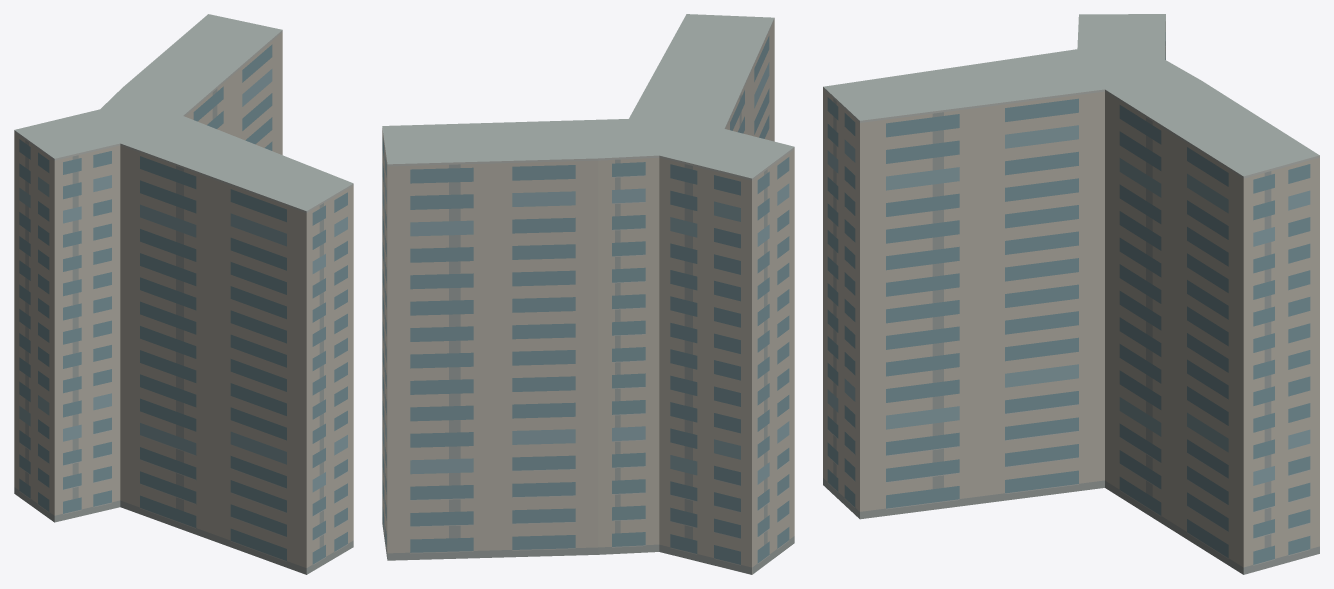
File: residential-e4c3461d-f39c-4807-82dc-150846dc13a1.glb
3 renders of one model, left to right at view 1: azimuth 30°, elevation 25°; view 2: azimuth 150°, elevation 25°; view 3: azimuth 270°, elevation 25°, orthographic. The views are drawn at different scales.
Visible parts, largest first — view 1: residential-e4c3461d-f39c-4807-82dc-150846dc13a1.tmp; view 2: residential-e4c3461d-f39c-4807-82dc-150846dc13a1.tmp; view 3: residential-e4c3461d-f39c-4807-82dc-150846dc13a1.tmp.
Boxes of the visible parts, <box> form: residential-e4c3461d-f39c-4807-82dc-150846dc13a1.tmp: <box>14,14,353,574</box>; residential-e4c3461d-f39c-4807-82dc-150846dc13a1.tmp: <box>382,14,794,574</box>; residential-e4c3461d-f39c-4807-82dc-150846dc13a1.tmp: <box>823,14,1319,574</box>.
Bounding box in the file's own units: 39.37 × 45 × 50.85.
